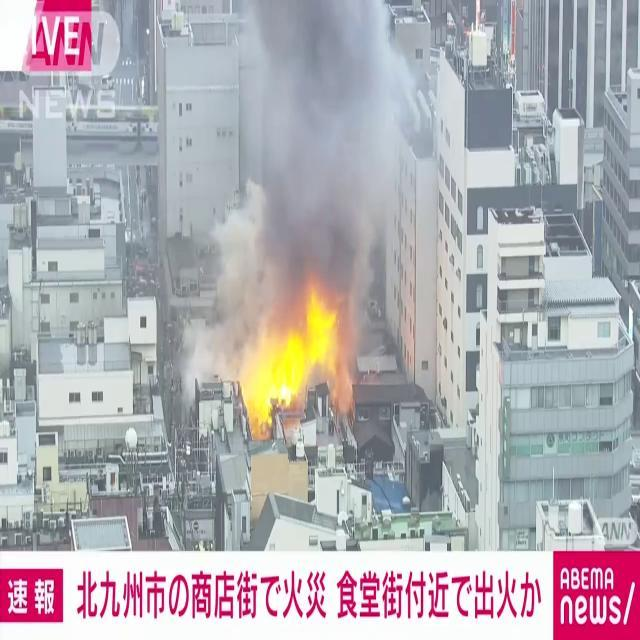Fire: (236, 282, 354, 427)
Smoke: (231, 0, 423, 312)
